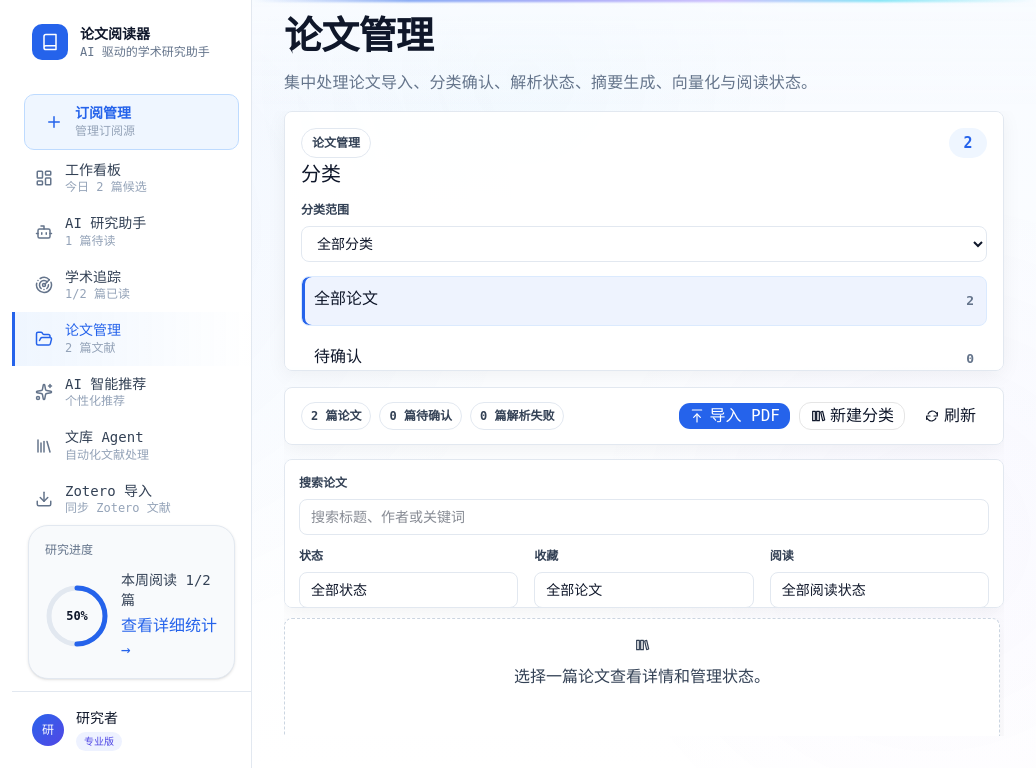
Test case: library route filters by favorite and reading state together
Select "收藏" in the dropdown labelled "收藏" at (644, 590), box [534,572,754,608]
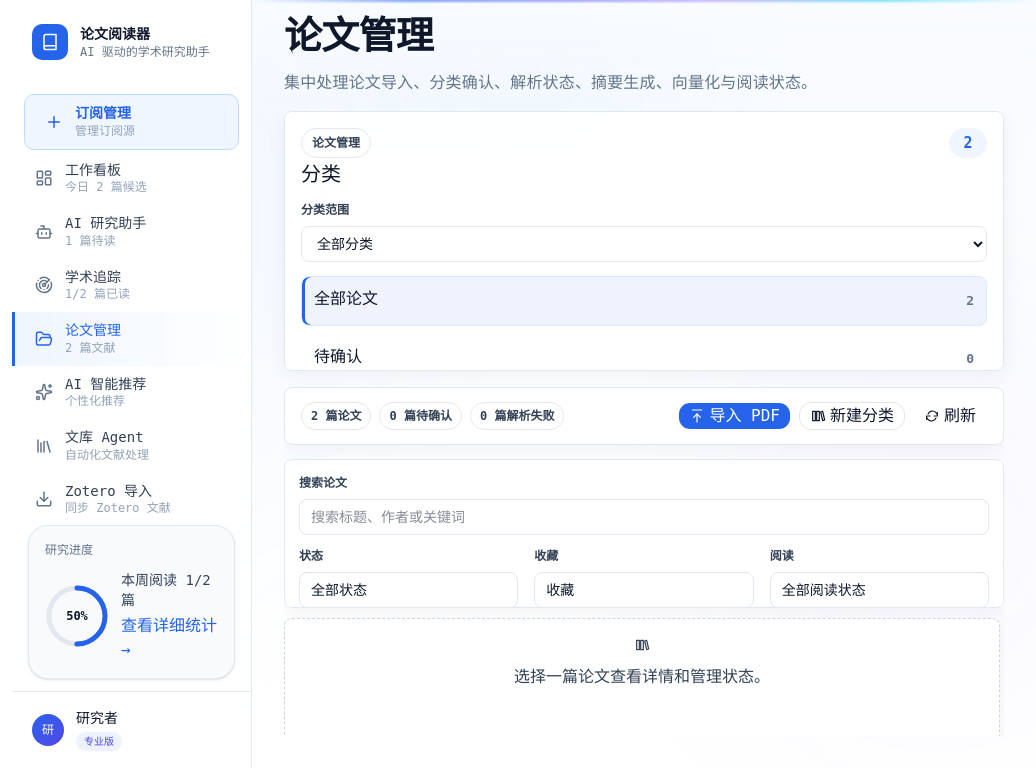
Select "已读" in the dropdown labelled "阅读" at (879, 590), box [770,572,989,608]
(page scrolled)
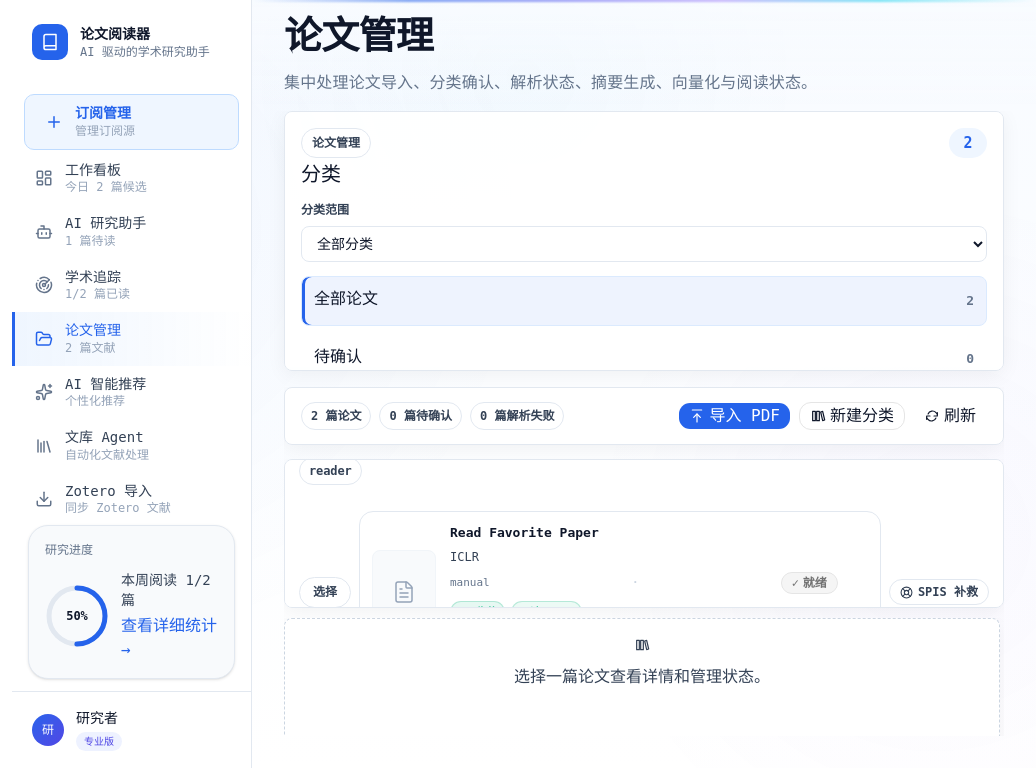
Expected: the text "Read Favorite Paper" is shown, [450,525,599,540]
